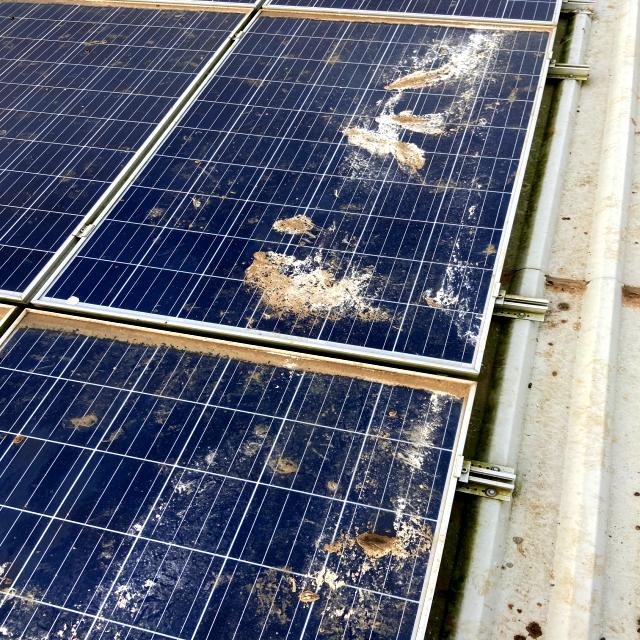bird: (326, 32, 494, 180), (89, 467, 206, 618), (296, 497, 414, 636), (244, 250, 401, 334), (208, 405, 319, 485), (124, 173, 240, 247), (38, 382, 146, 454), (410, 230, 486, 330), (386, 396, 456, 484), (252, 196, 360, 243)
